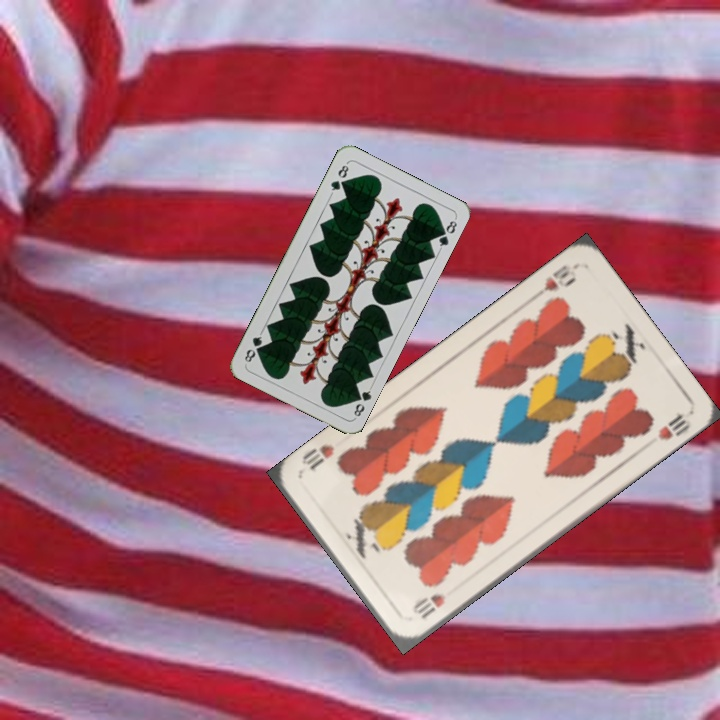G8: (349, 383, 375, 421), (327, 159, 351, 197)
H10: (539, 260, 579, 294), (408, 590, 448, 622)
